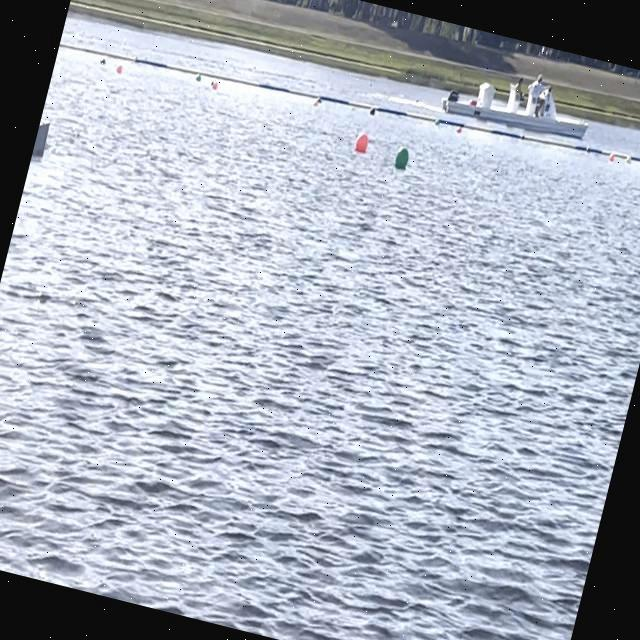buoy: (392, 146, 412, 172), (354, 130, 371, 154), (115, 62, 124, 76), (211, 80, 219, 92), (194, 71, 202, 82), (368, 105, 376, 116), (608, 152, 616, 162), (624, 154, 632, 164), (99, 56, 107, 65), (455, 125, 462, 134), (433, 118, 440, 126), (312, 99, 318, 107)
